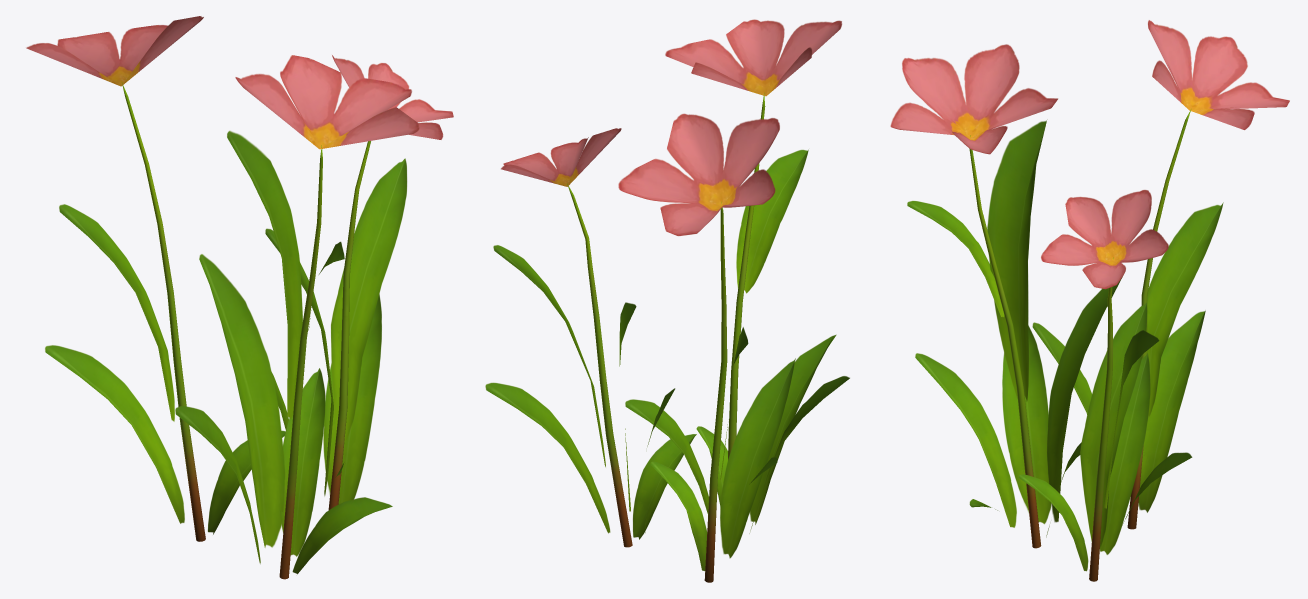
File: flower-group-transformed.glb
3 views of the same model, side by side, from view 1: azimuth 30°, elevation 25°; view 2: azimuth 150°, elevation 25°; view 3: azimuth 270°, elevation 25° (orthographic). The views are drawn at different scales.
Visible parts, largest first — view 1: Flower_3_Group; view 2: Flower_3_Group; view 3: Flower_3_Group.
Part boxes in pixels (box(x1,y1,x2,y2)): Flower_3_Group: box(26, 16, 453, 579); Flower_3_Group: box(485, 19, 849, 582); Flower_3_Group: box(890, 20, 1289, 581).
Size of the model in its own units: 1.49 by 2.05 by 1.59.
2 materials, 2 textured.
